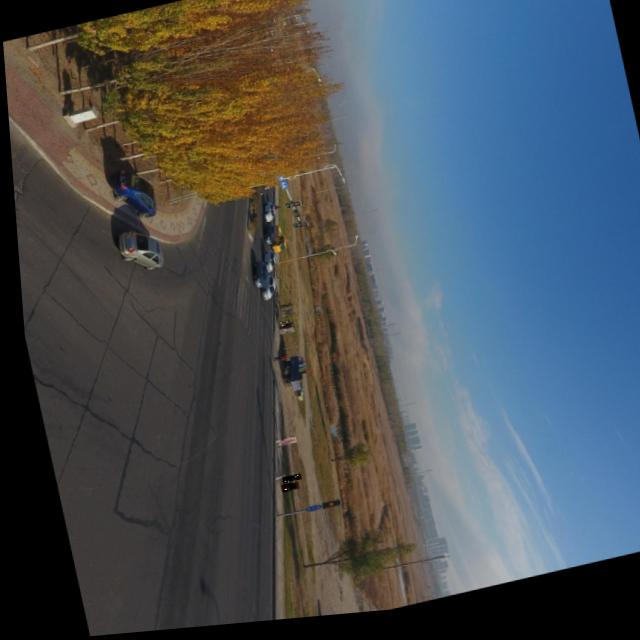Person: (271, 486, 291, 498), (268, 441, 289, 452), (273, 478, 293, 488), (265, 358, 283, 367), (272, 328, 289, 337), (273, 308, 288, 315), (273, 312, 287, 319), (273, 333, 287, 340), (272, 332, 286, 339), (273, 327, 287, 334), (274, 324, 287, 330), (274, 318, 288, 323), (268, 211, 277, 214)
